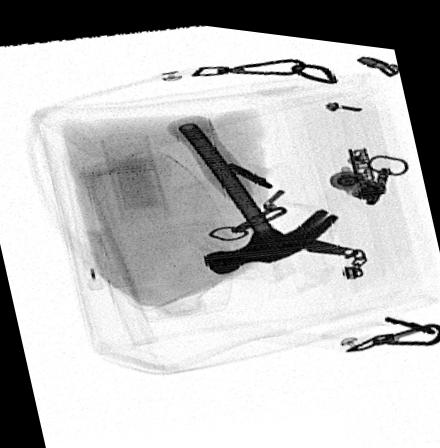Hammer: (163, 108, 339, 268)
